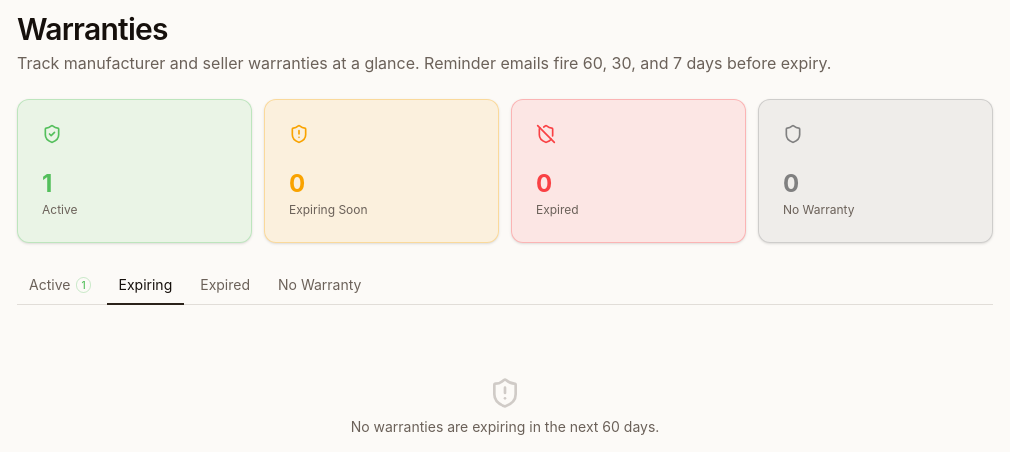
Test: <WarrantiesListPage /> › switches buckets when a tab is clicked
Expected: the element with test id "warranties-empty" is shown, [351,377,659,435]
Click the tab with test id "warranties-tab-active" at (60, 286), box [17,267,102,305]
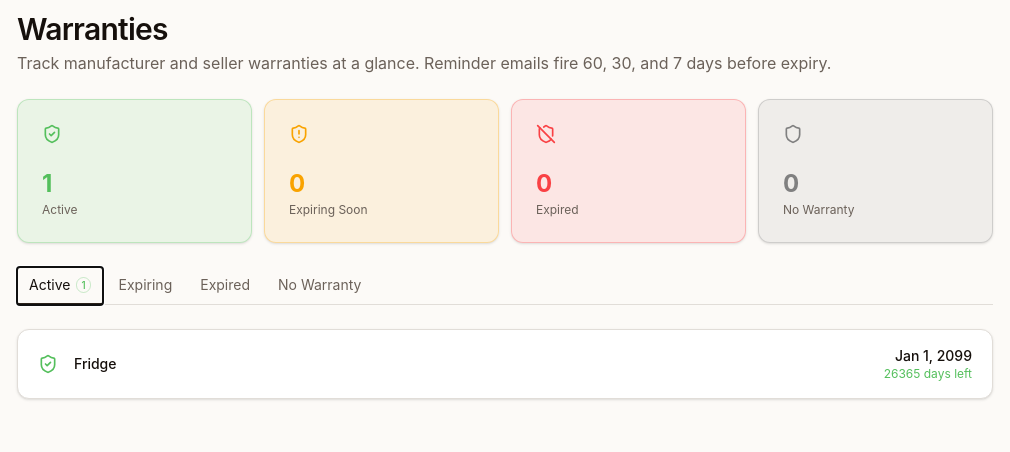
Now the link with test id "warranties-row-c-active" shows "Fridge", box [38,347,972,381]
